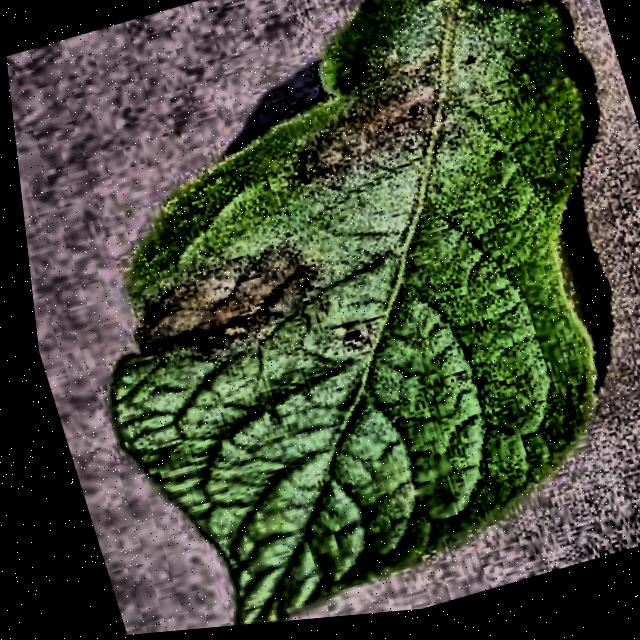Potato_leaf_late_blight: (101, 0, 640, 610)
